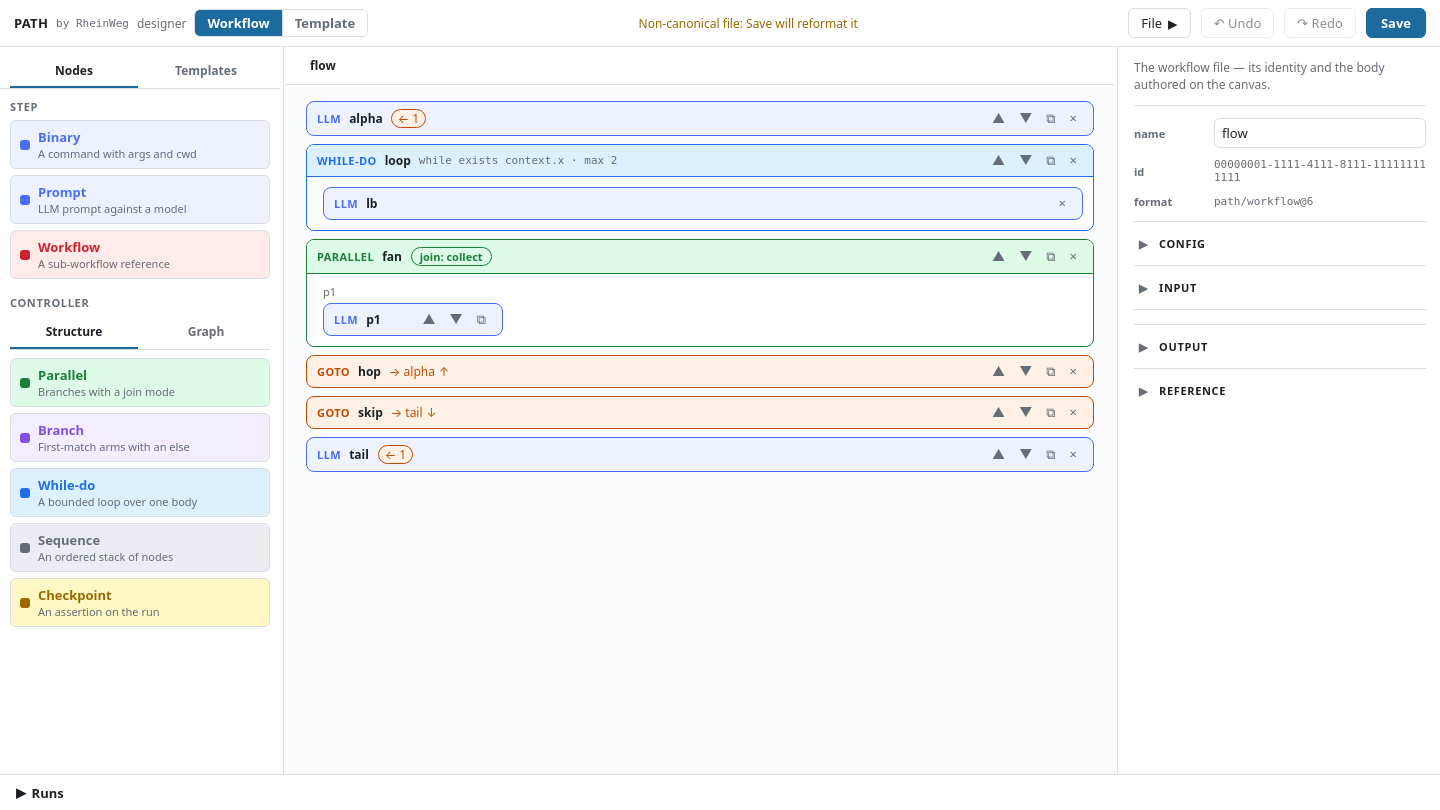
Test: G-D-01 palette placement › opens no goto socket under a while-do or a parallel, and opens the file body's
This screenshot has width=1440, height=810.
Expected: the text "alpha" is shown, [349,110,383,127]
Click the tab "Graph" at (206, 332), box [142,316,270,349]
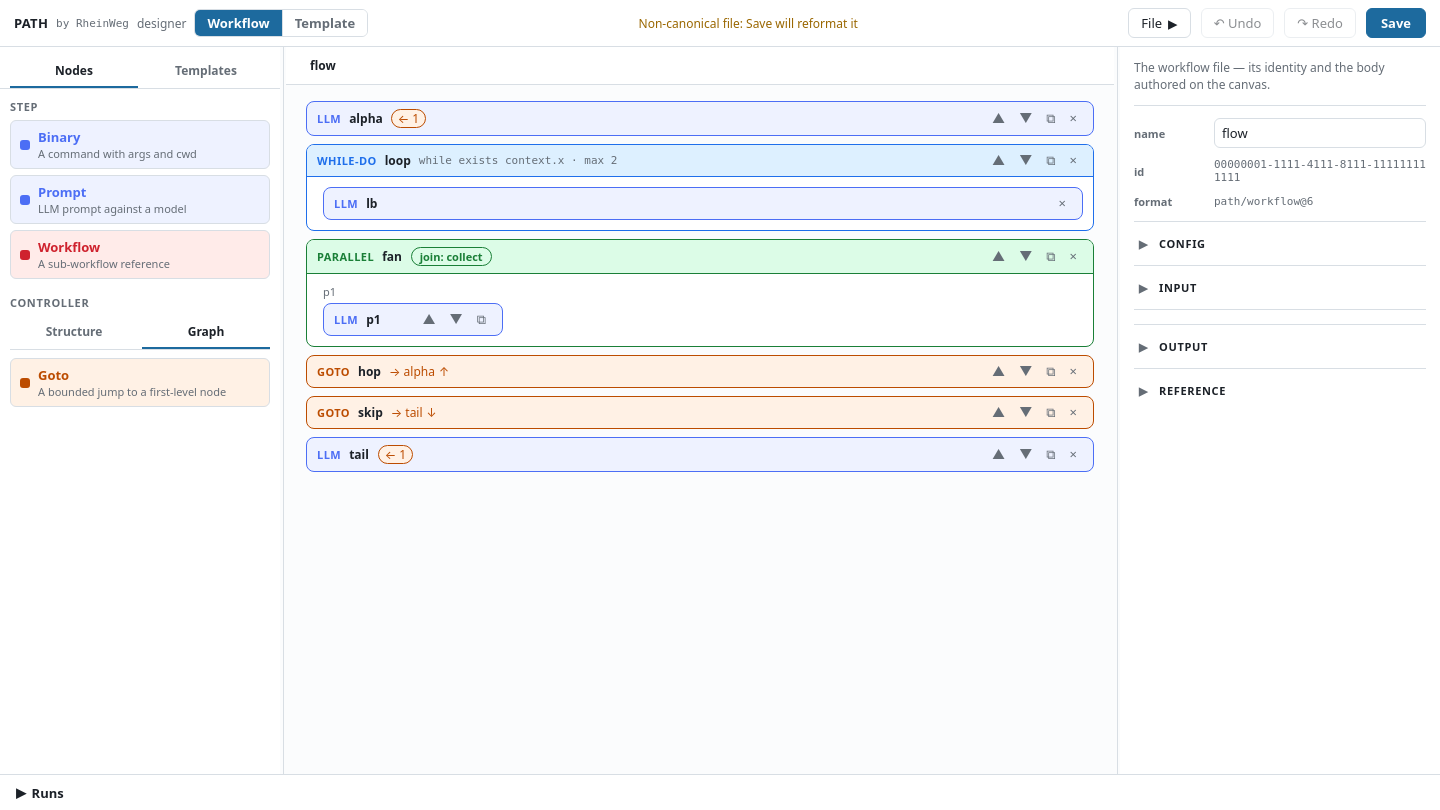
Click the text "Goto" at (54, 375), box [38,366,69,384]
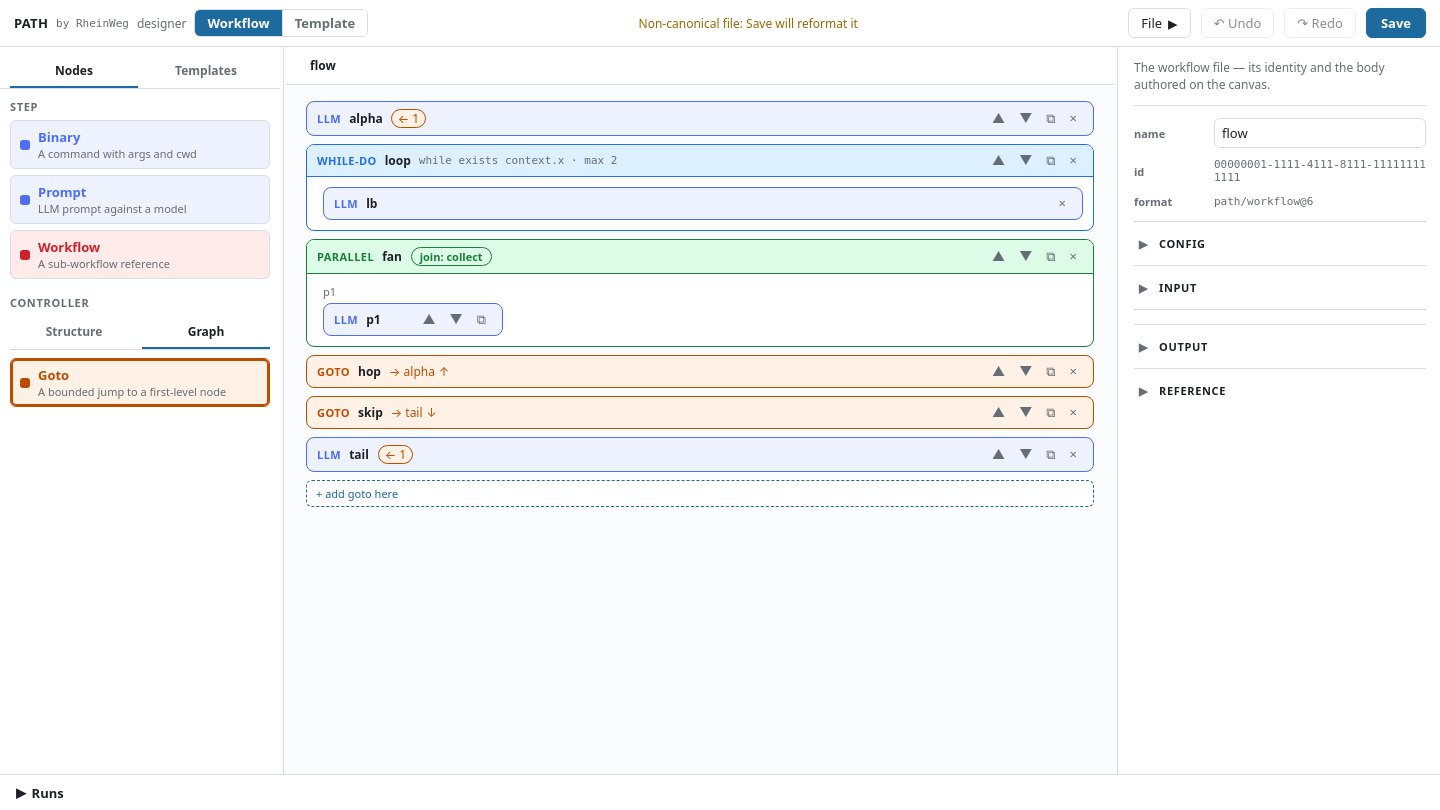
Expected: the button "+ add goto here" is shown
Click the button "+ add goto here" at (357, 494), box [306,480,1094,507]
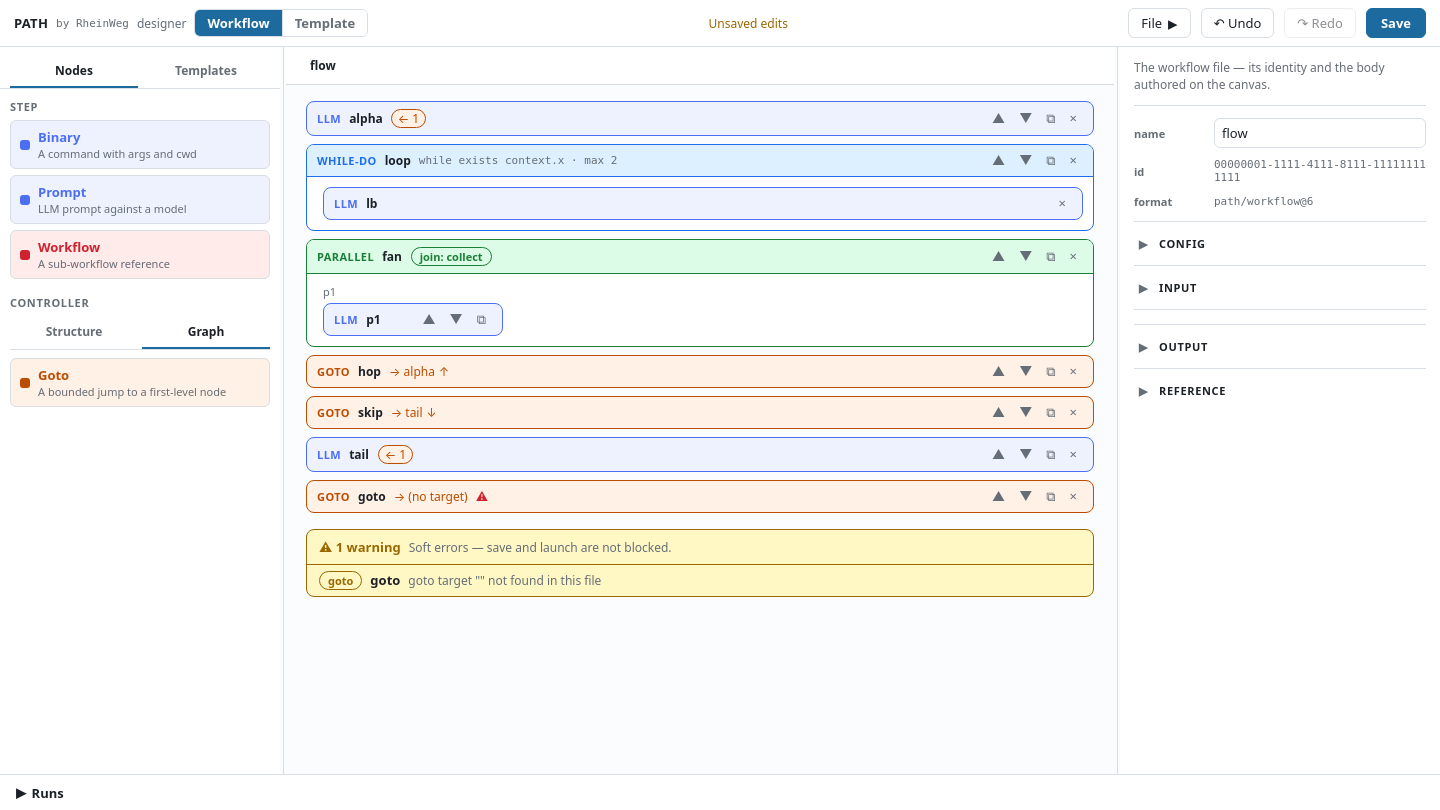
Expected: the text "→ (no target)" is shown, [394,488,468,505]
Expected: the picture named "Validation error: goto target \"\" not found" is shown, [476,488,488,505]
